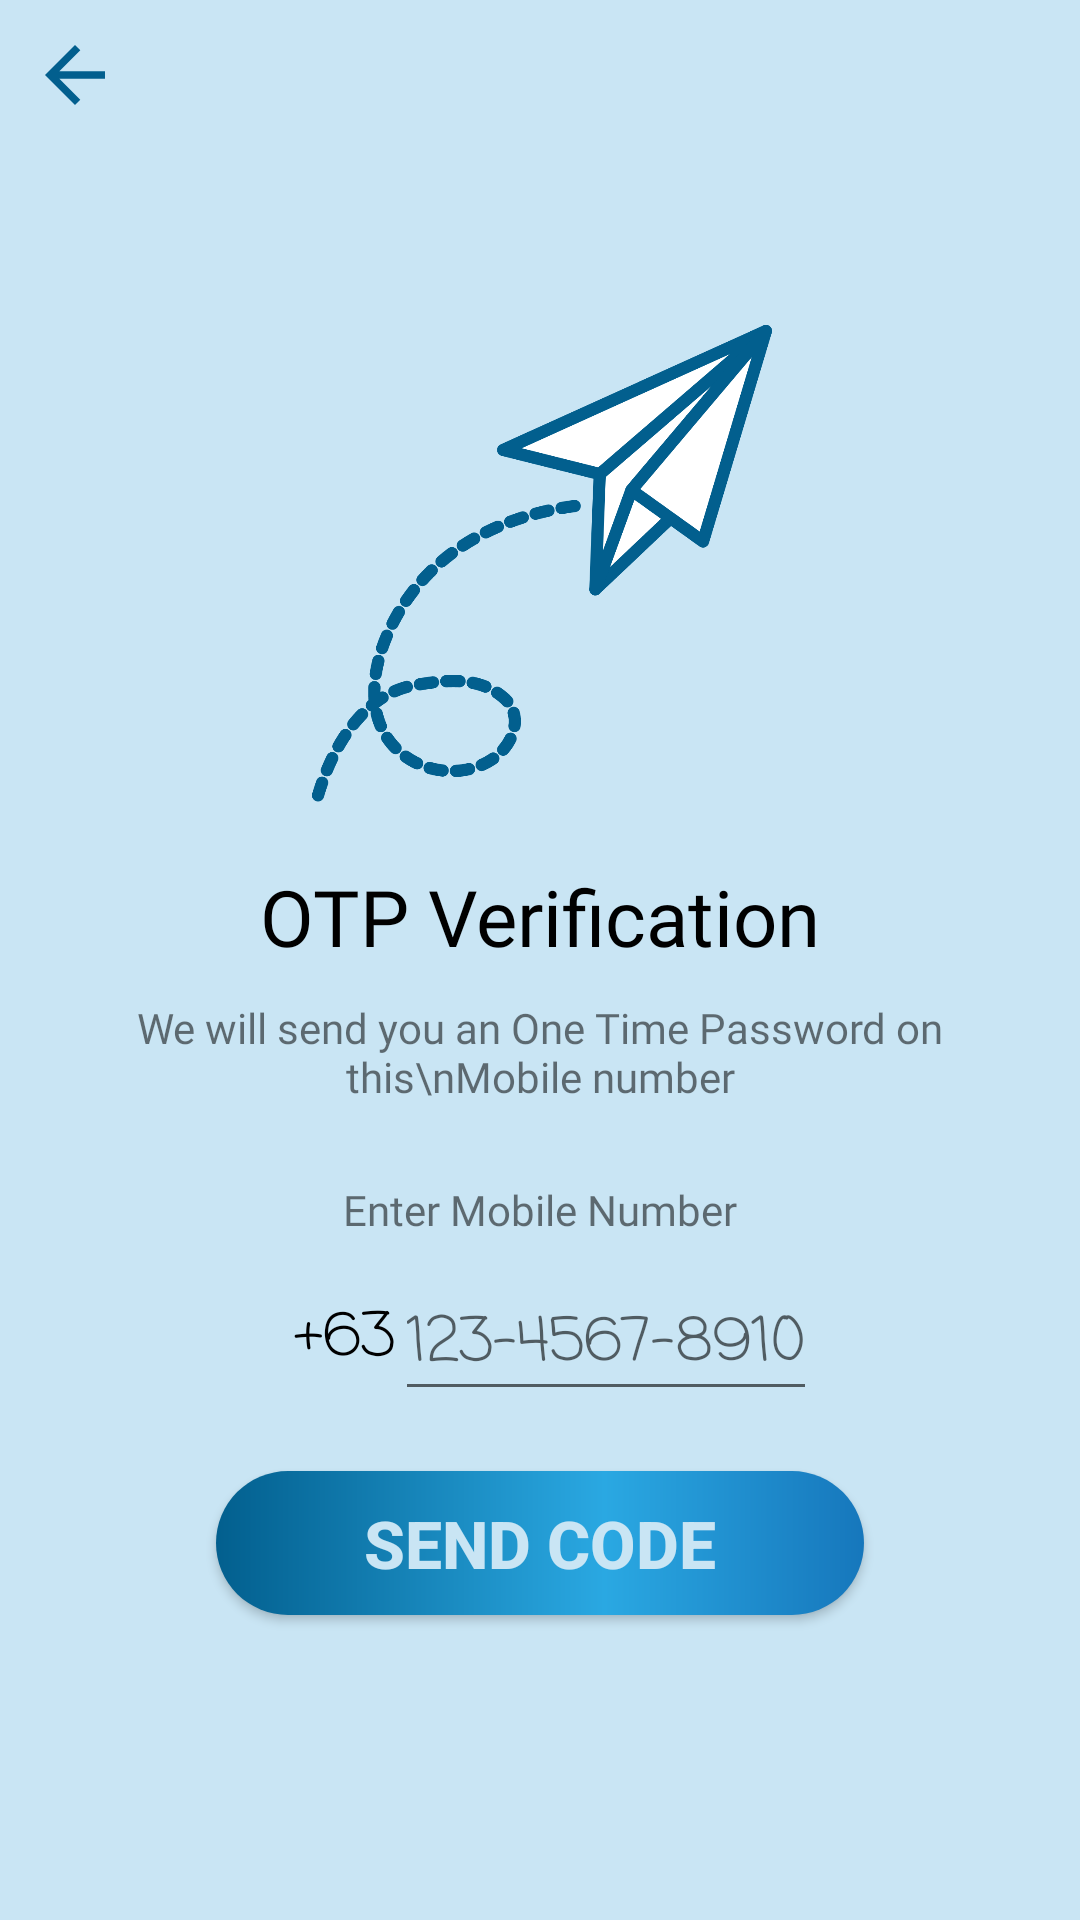

Screen size 1080x1920. Icon name, then its box in pixels as {"left": x1, "top": y1, "right": x2, "bottom": y2}:
back: {"left": 45, "top": 45, "right": 105, "bottom": 105}
